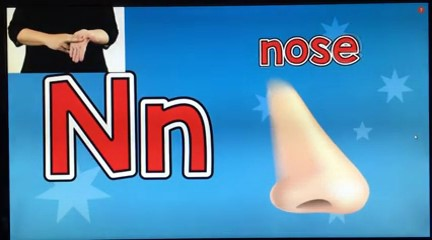N: (46, 27, 94, 64)
